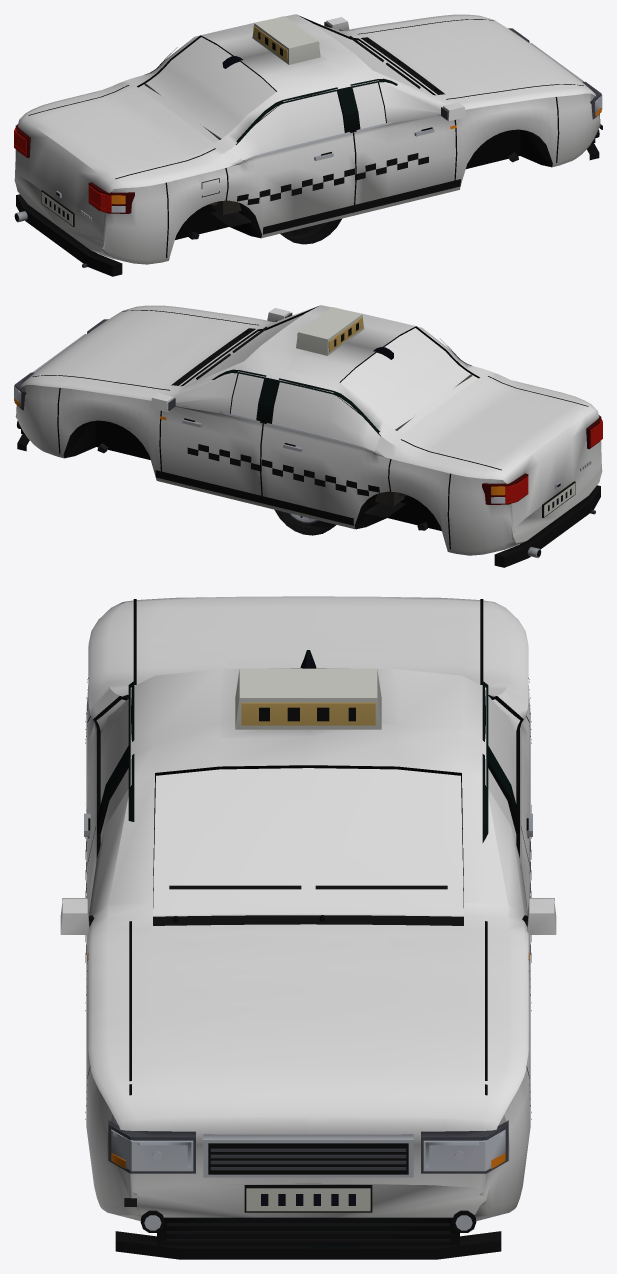
Rendered from taxi-mid.glb.
The picture shows the model from 3 angles, top to bottom: view 1: azimuth 30°, elevation 25°; view 2: azimuth 150°, elevation 25°; view 3: azimuth 270°, elevation 25°; orthographic projection. The views are drawn at different scales.
Parts seen in each view (by area): view 1: paint, detail, glass, wheel; view 2: paint, detail, glass, wheel; view 3: paint, detail, glass.
Part boxes in pixels (bbox=[...]): paint: bbox=[14, 14, 600, 264]; detail: bbox=[14, 15, 602, 276]; glass: bbox=[138, 24, 432, 160]; wheel: bbox=[280, 218, 341, 244]; paint: bbox=[15, 305, 602, 555]; detail: bbox=[14, 306, 602, 567]; glass: bbox=[184, 315, 478, 451]; wheel: bbox=[274, 509, 336, 535]; paint: bbox=[60, 596, 556, 1221]; detail: bbox=[62, 599, 554, 1259]; glass: bbox=[97, 696, 519, 915].
Bounding box in the file's own units: 1.6 × 0.6373 × 0.6699.
